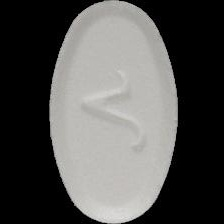10544-172: (0, 0, 224, 224)
